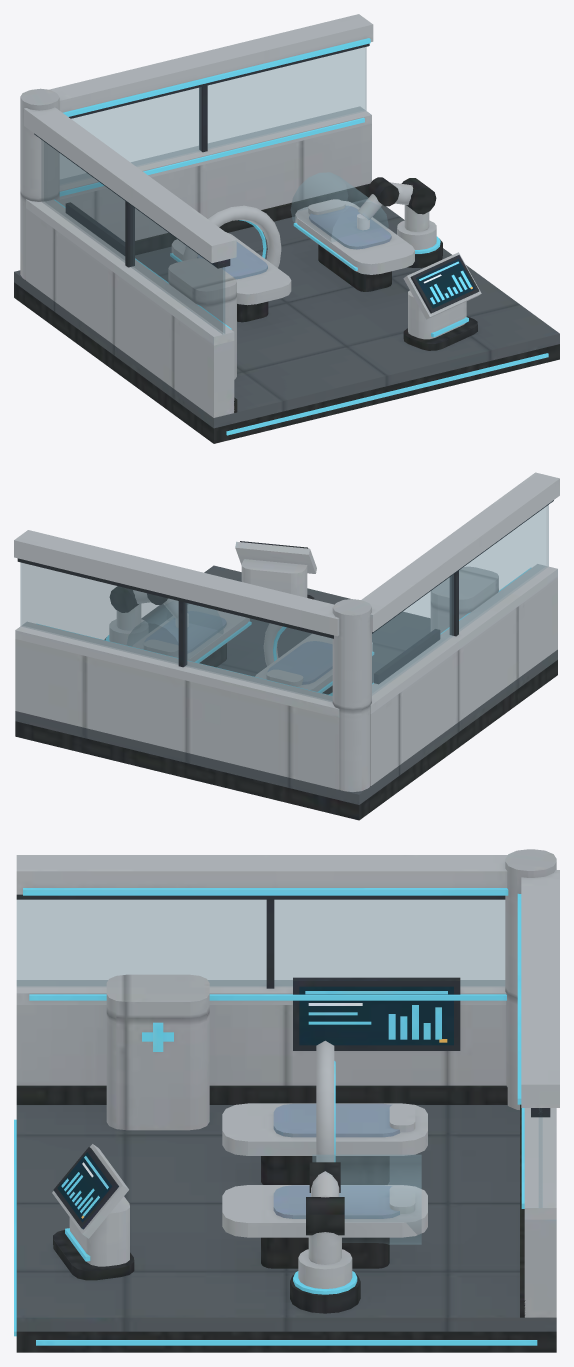
The model's file is enterprise_medical_bay.glb.
3 renders of one model, top to bottom at view 1: azimuth 30°, elevation 25°; view 2: azimuth 150°, elevation 25°; view 3: azimuth 270°, elevation 25°, orthographic. The views are drawn at different scales.
Parts seen in each view (by area): view 1: te_enterprise_medical_bay, move_rod; view 2: te_enterprise_medical_bay, move_rod; view 3: te_enterprise_medical_bay, move_rod.
Boxes of the visible parts, x1=… form: te_enterprise_medical_bay: x1=14, y1=14, x2=559, y2=443; move_rod: x1=182, y1=205, x2=281, y2=267; te_enterprise_medical_bay: x1=14, y1=472, x2=559, y2=820; move_rod: x1=263, y1=623, x2=332, y2=695; te_enterprise_medical_bay: x1=14, y1=849, x2=559, y2=1352; move_rod: x1=316, y1=1040, x2=335, y2=1162.
Bounding box in the file's own units: 0.849 × 0.472 × 0.849.
Materials: 2 (1 with a texture image).
